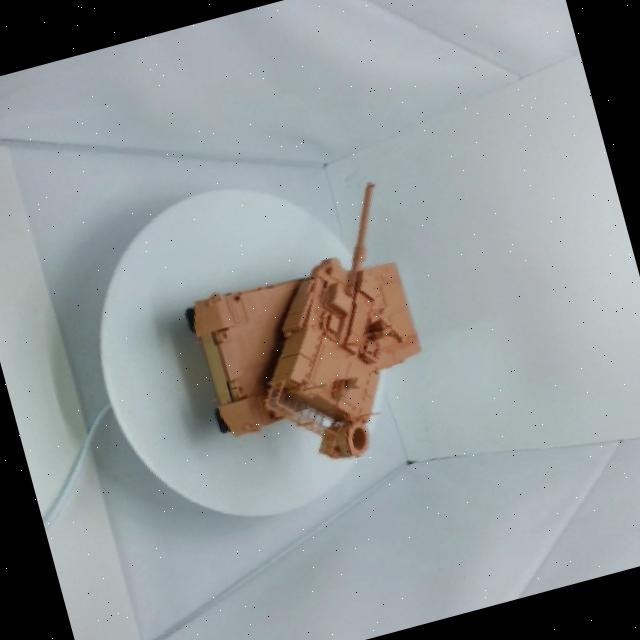korea tank: (128, 120, 496, 514)
